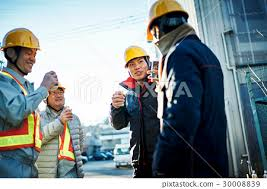helmet: (144, 1, 186, 27), (2, 27, 44, 50), (119, 46, 148, 63)
vest: (1, 70, 41, 151), (55, 116, 75, 162)
